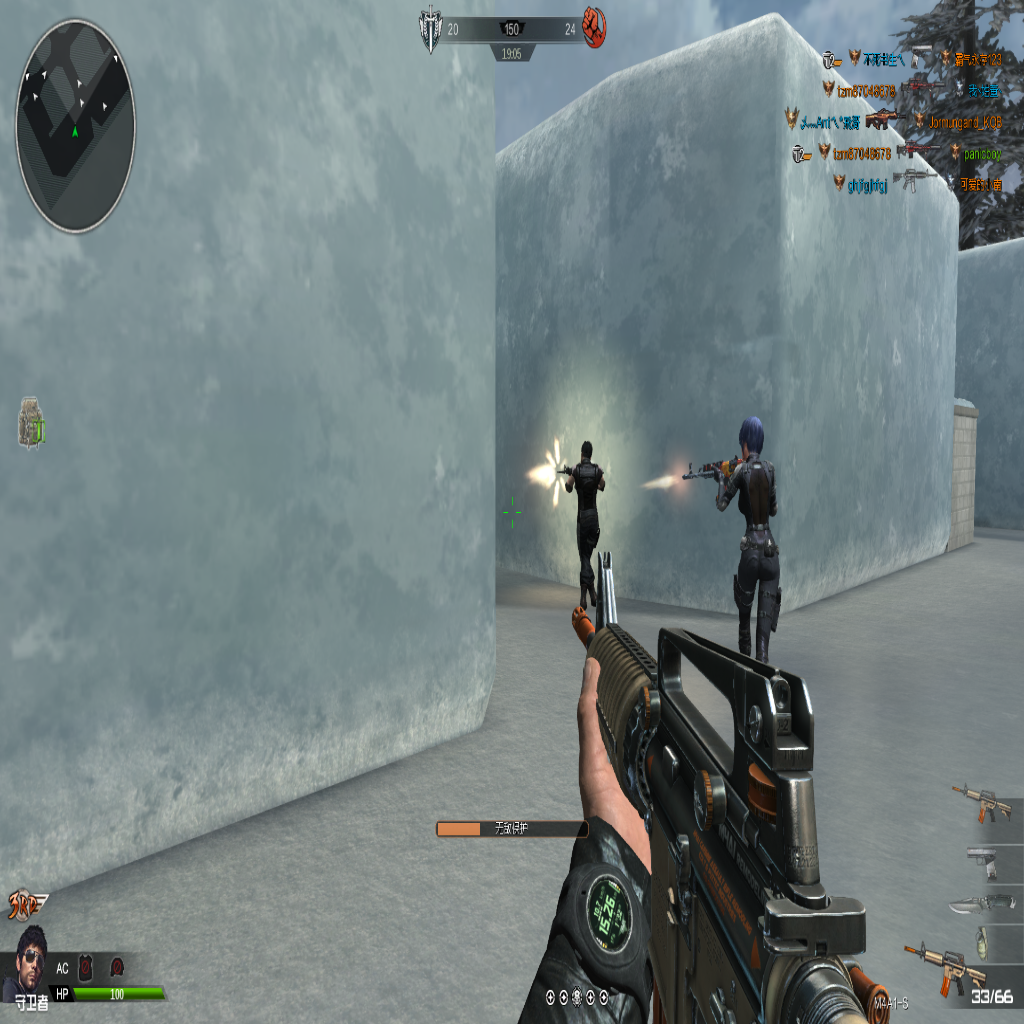ct: (710, 417, 781, 682), (554, 437, 605, 613)
